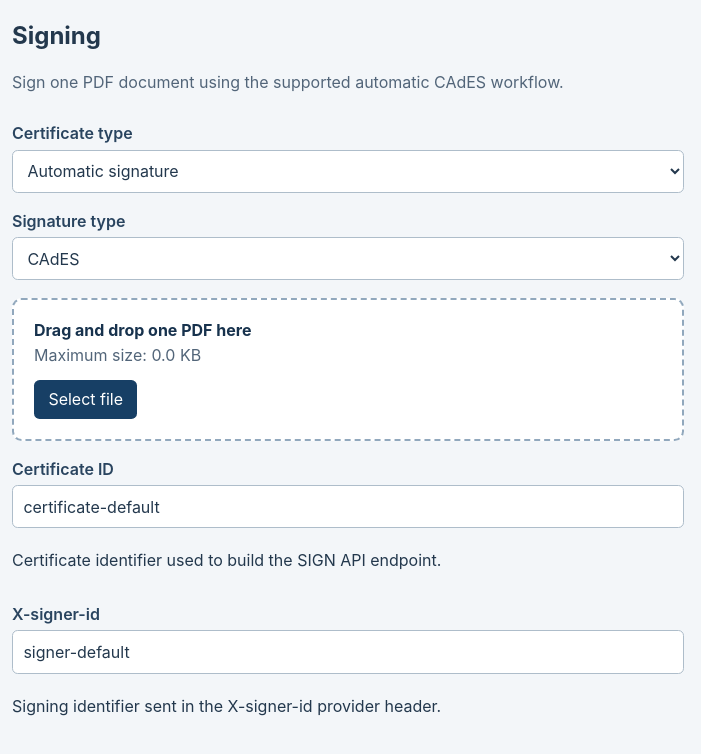
Test: SigningPage › shows PAdES appearance fields and submits to the PAdES endpoint
Later steps or results of the test are not shown.
Expected: the text "Drag and drop one PDF here" is shown, [34,320,251,340]
Expected: the field showing "certificate-default" is shown, [12,485,684,528]
Select "PAdES" in the dropdown labelled "Signature type": coordinates (348, 259) [12,237,684,280]
(page scrolled)
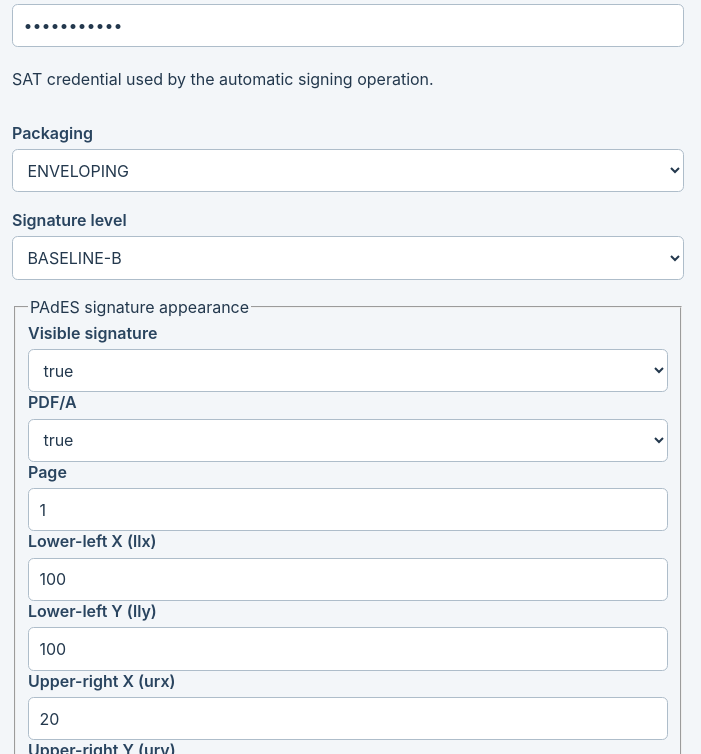
Result: the text "PAdES signature appearance" is shown at [28,297,251,317]
Result: the dropdown labelled "Visible signature" shows "true"
Result: the dropdown labelled "PDF/A" shows "true" at [28,419,668,462]
Select "false" in the dropdown labelled "Visible signature": coordinates (348, 371) [28,349,668,392]
(page scrolled)
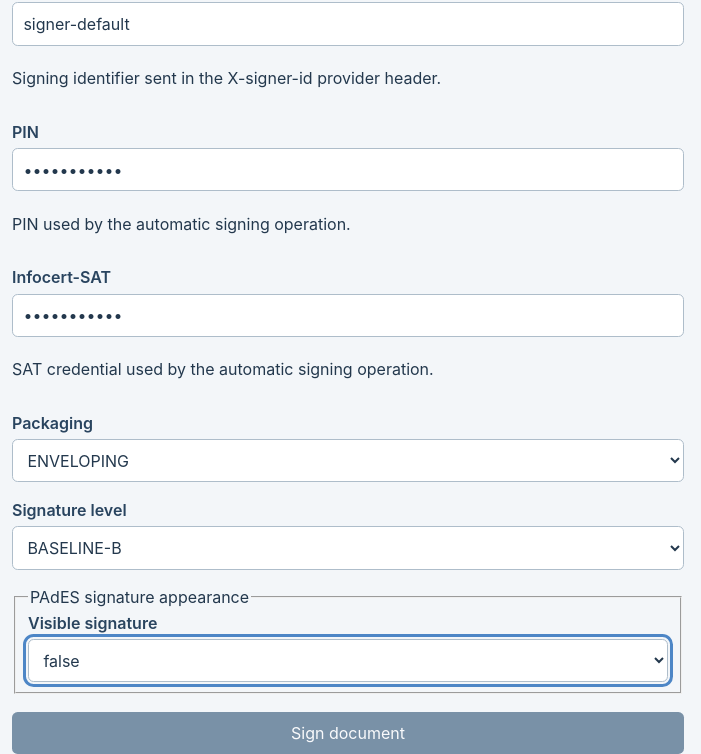
Result: the label labelled "PDF/A" is gone
